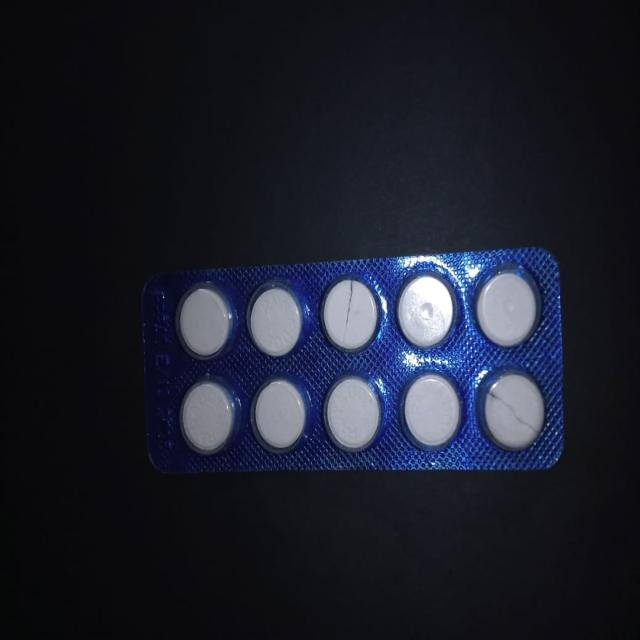defect: (475, 369, 549, 454), (320, 278, 381, 352)
